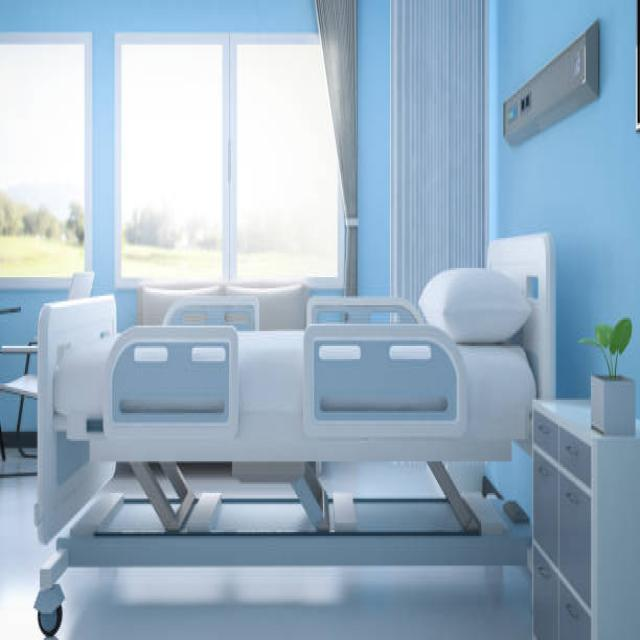bed: (32, 230, 556, 634)
